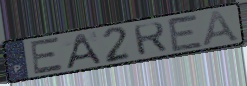2: (101, 25, 132, 64)
A: (202, 9, 243, 48), (65, 31, 104, 71)
E: (165, 13, 205, 54), (30, 35, 65, 76)
R: (132, 20, 170, 57)
